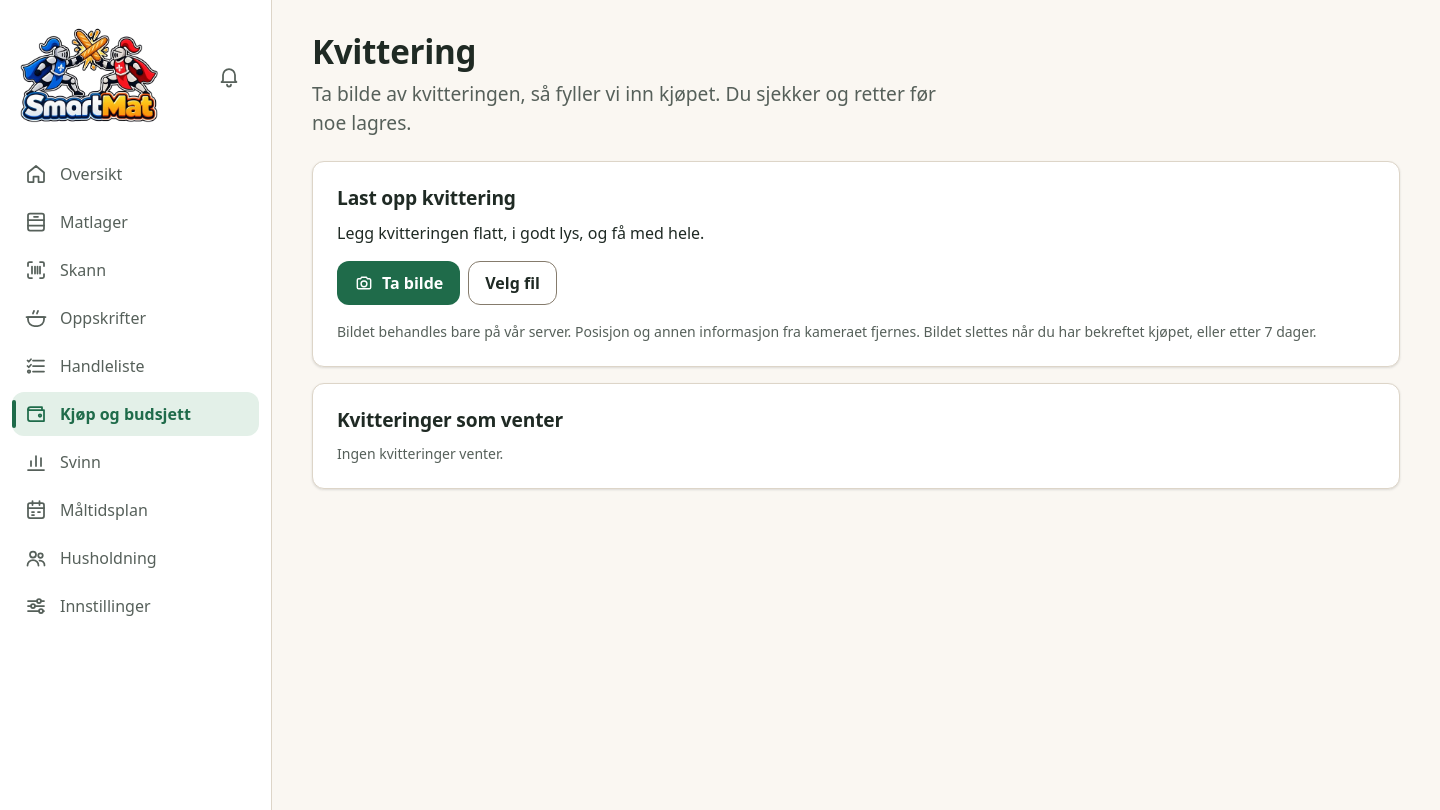
FR-RCPT-001 the camera inside the page › camera refused: says so and offers the camera app instead
Click the button "Ta bilde" at [399, 283], box left=337, top=261, right=460, bottom=305
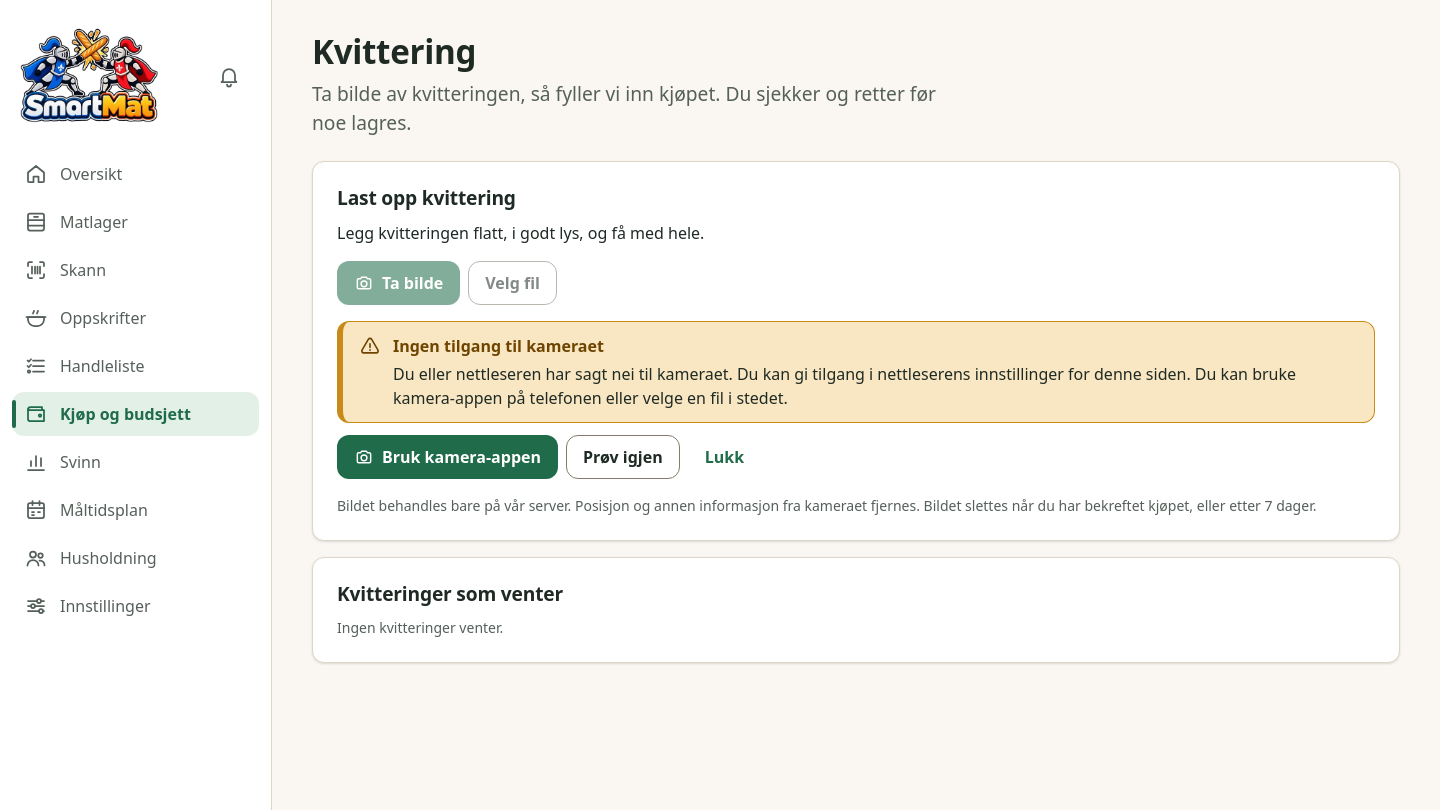
Expected: the text "Ingen tilgang til kameraet" is shown, left=393, top=335, right=604, bottom=357
Click the button "Bruk kamera-appen" at [448, 457], box left=337, top=435, right=558, bottom=479
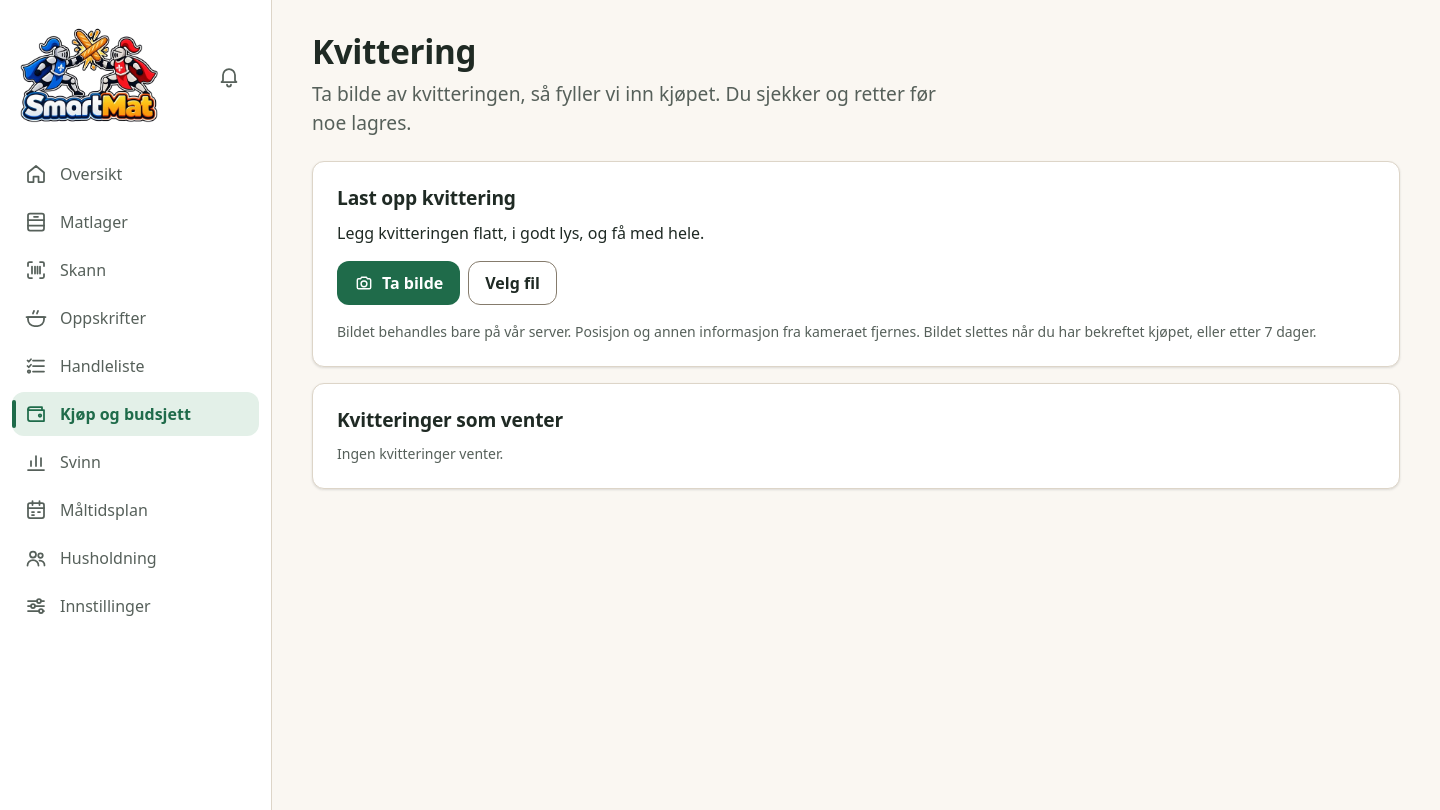
Expected: the text "Ingen tilgang til kameraet" is gone
